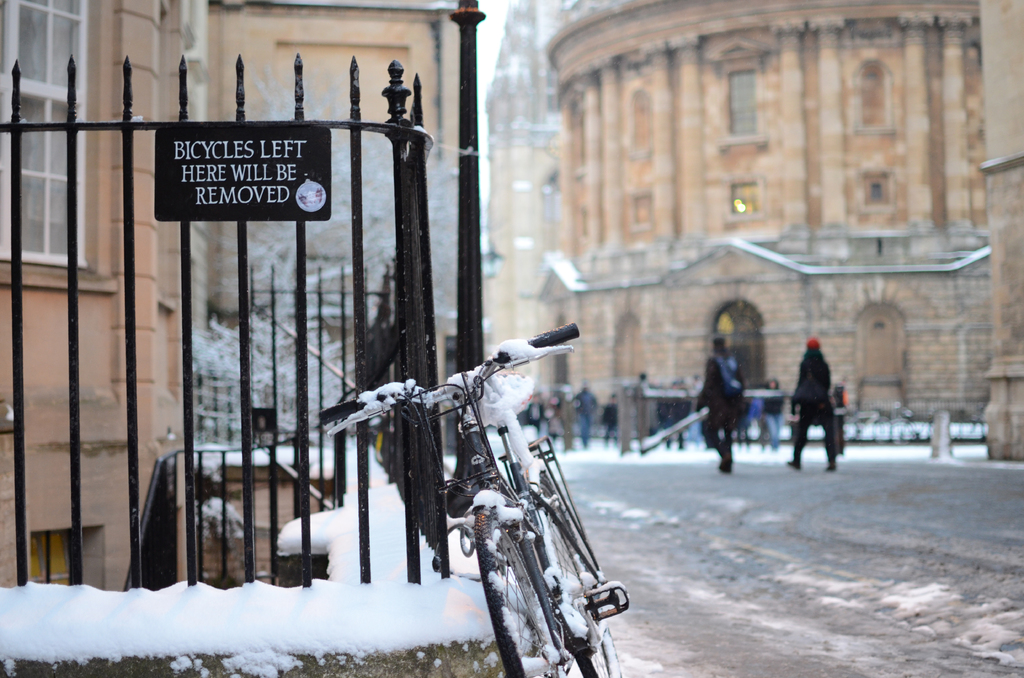Bike: (302, 394, 539, 678)
